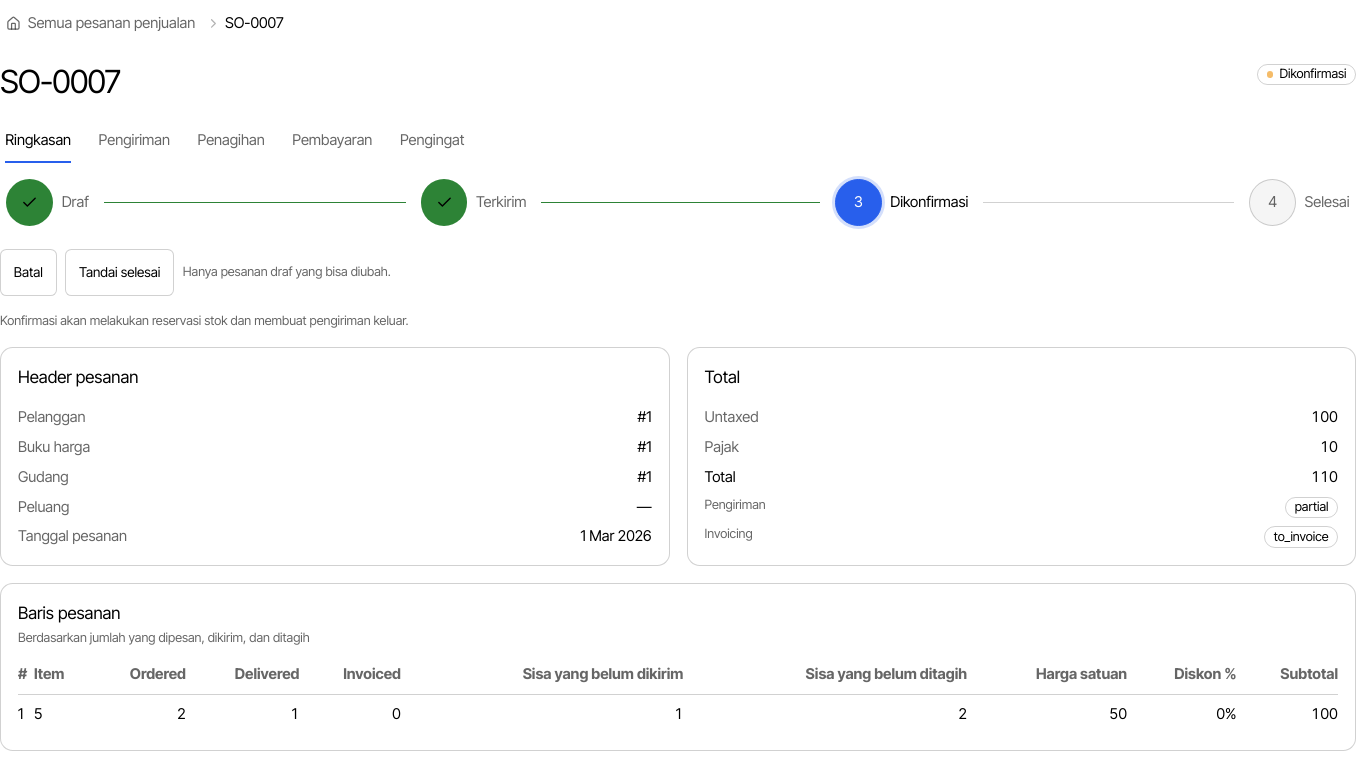
Scenario: SaleOrderDetail extra › opens the deliver dialog from the delivery tab
Click the tab "Pengiriman": (134, 141) left=98, top=117, right=171, bottom=164
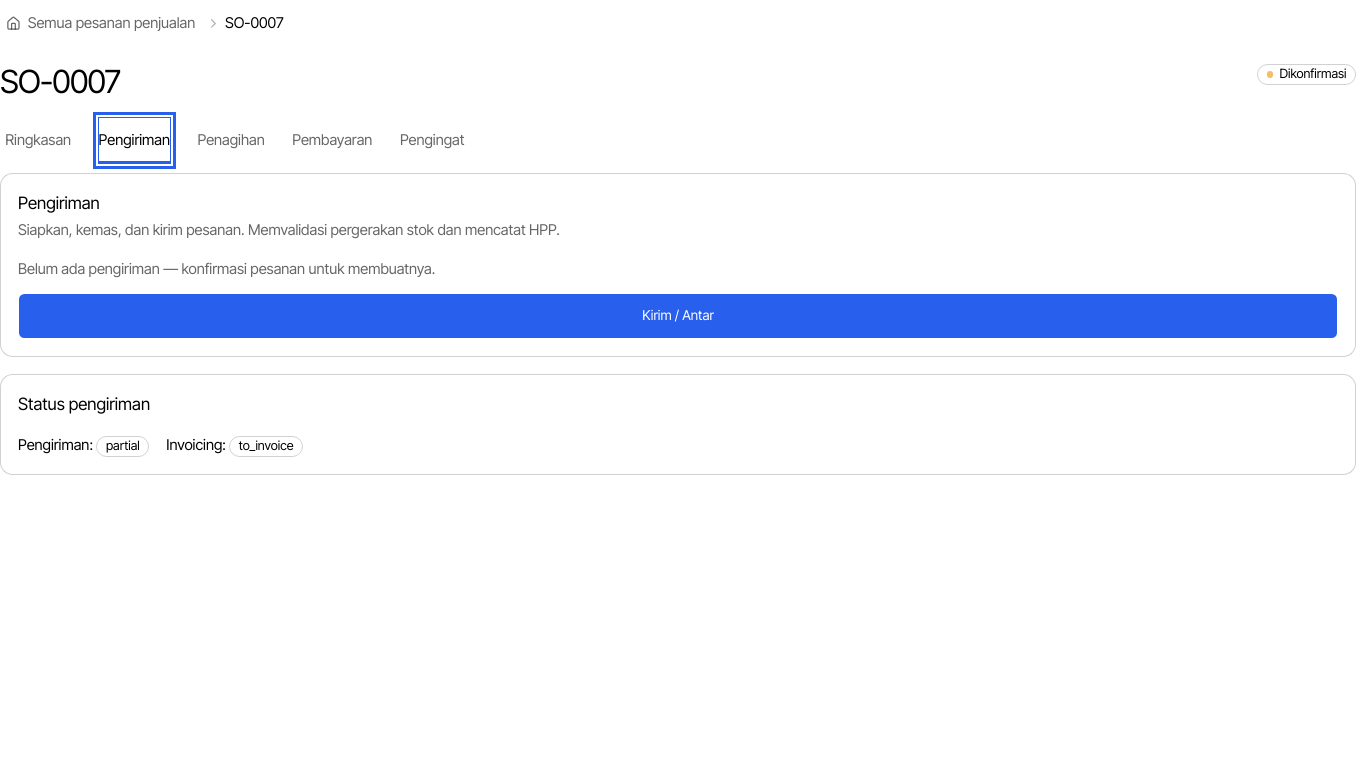
Click the button "Kirim / Antar": (678, 316) left=18, top=293, right=1338, bottom=340
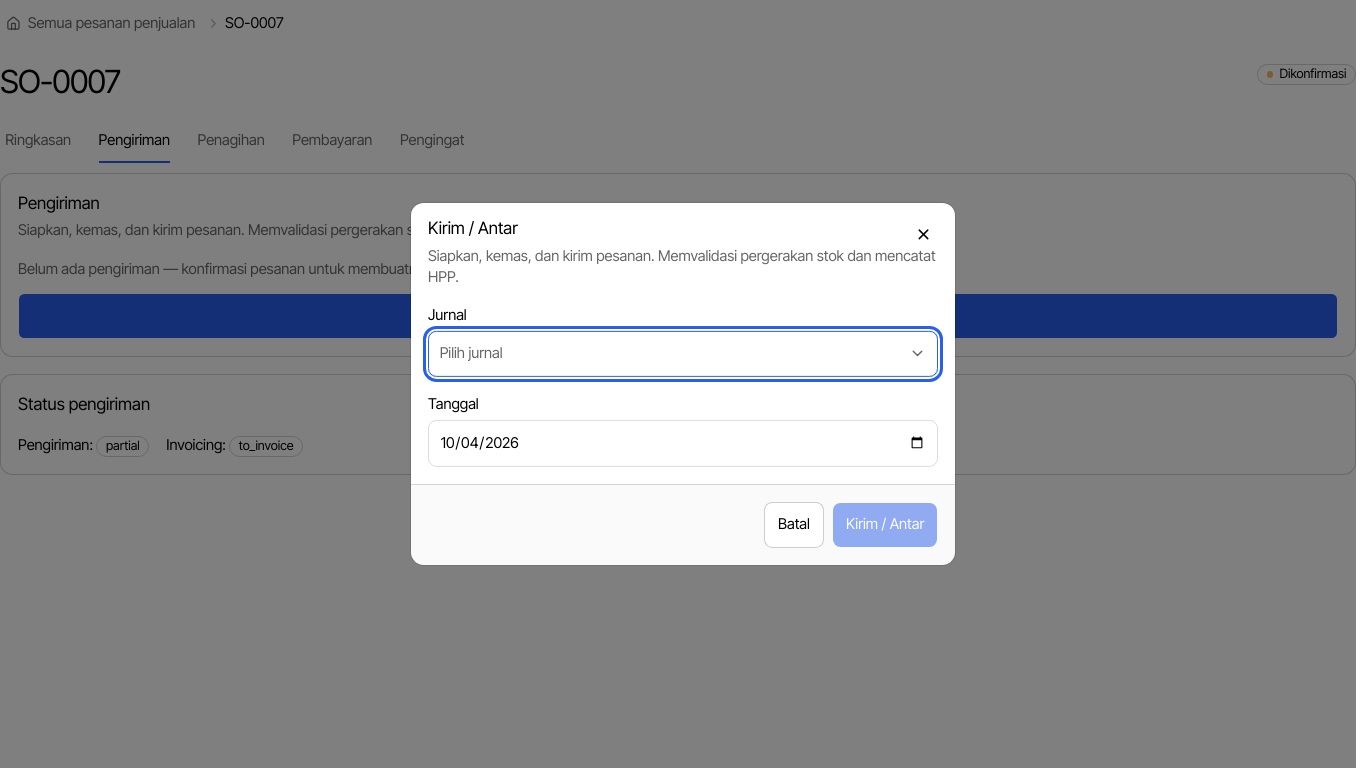
Now the dialog is shown, box left=411, top=203, right=955, bottom=565
